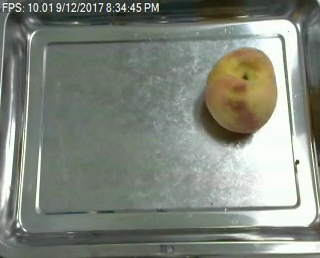Peach: (204, 46, 277, 133)
